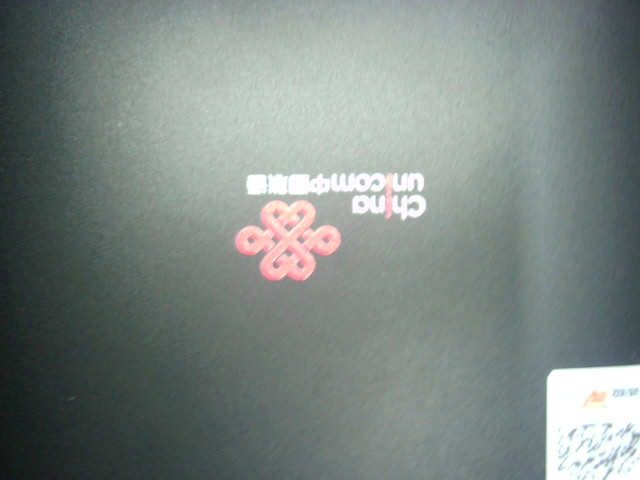AC_ChinaUnicom: (232, 155, 434, 290)
